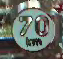Speed limit: (5, 4, 56, 53)
